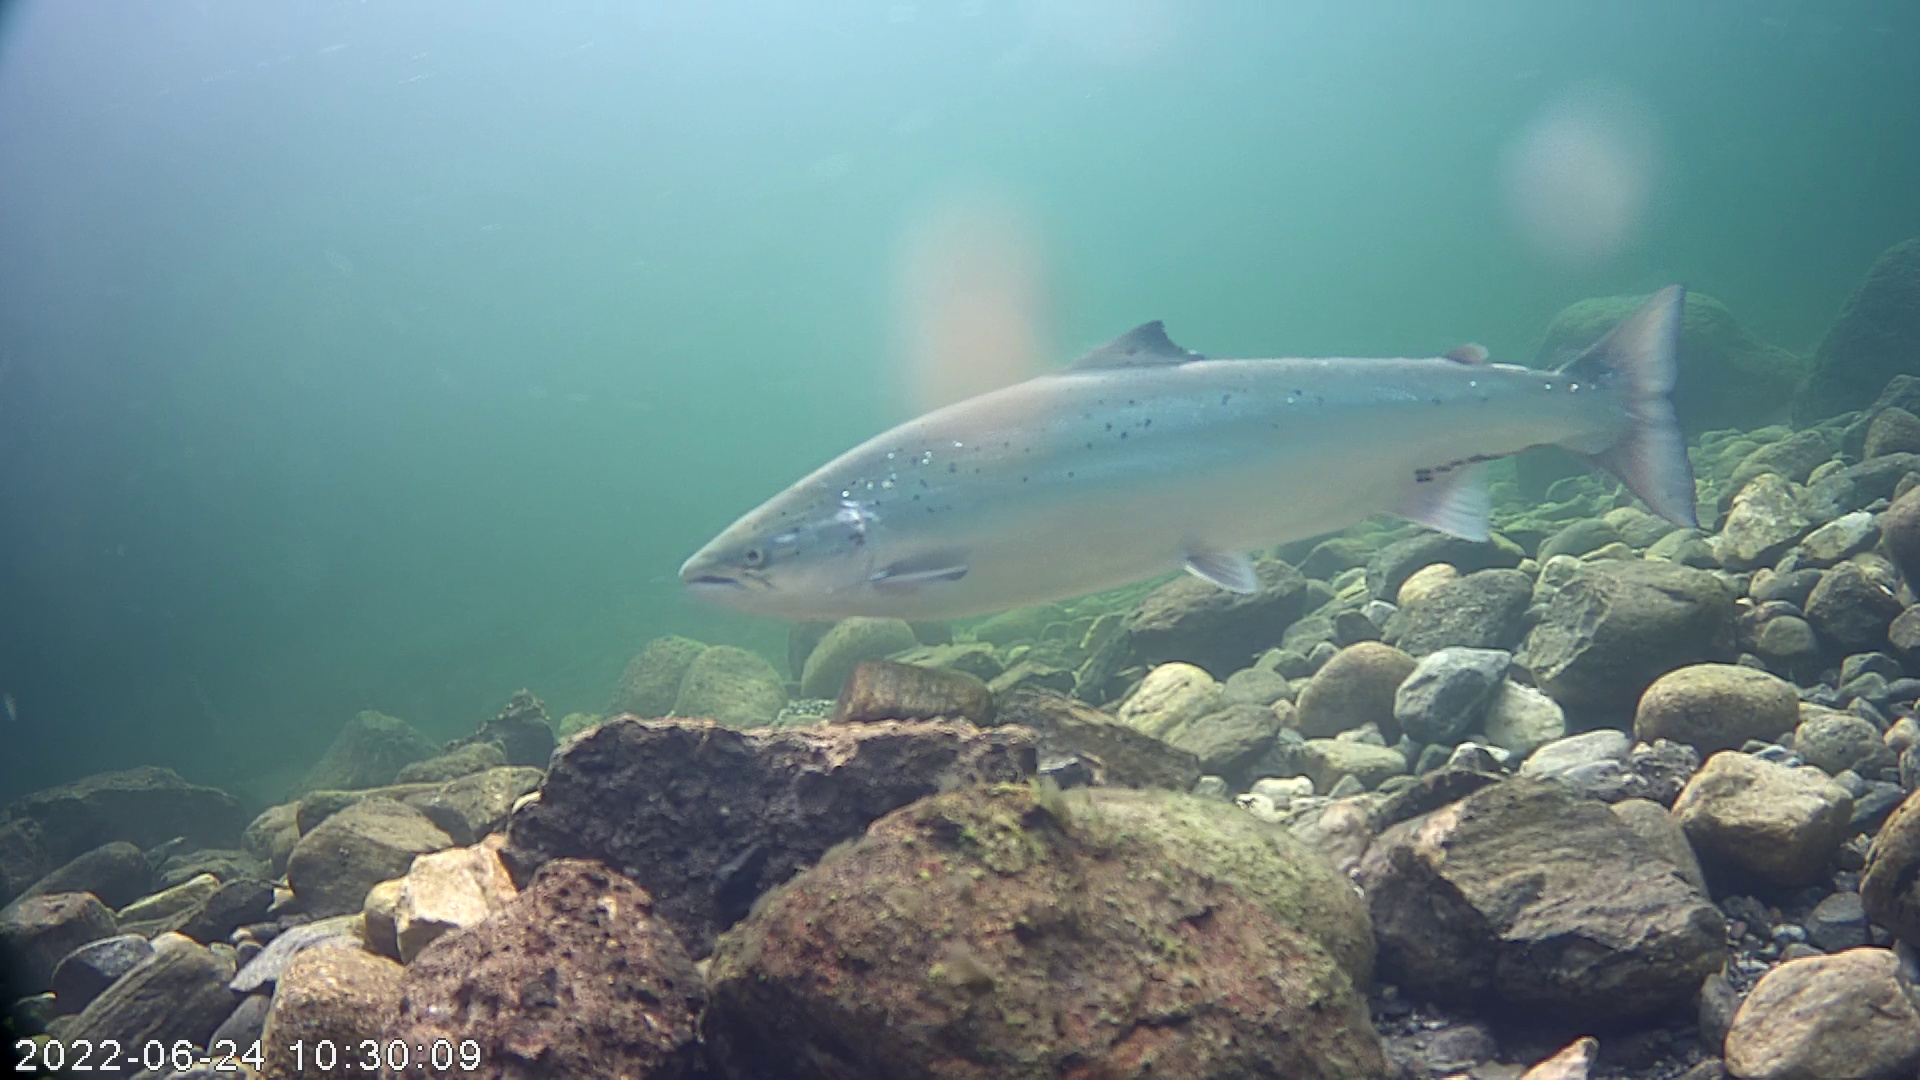salmon: (673, 281, 1704, 625)
